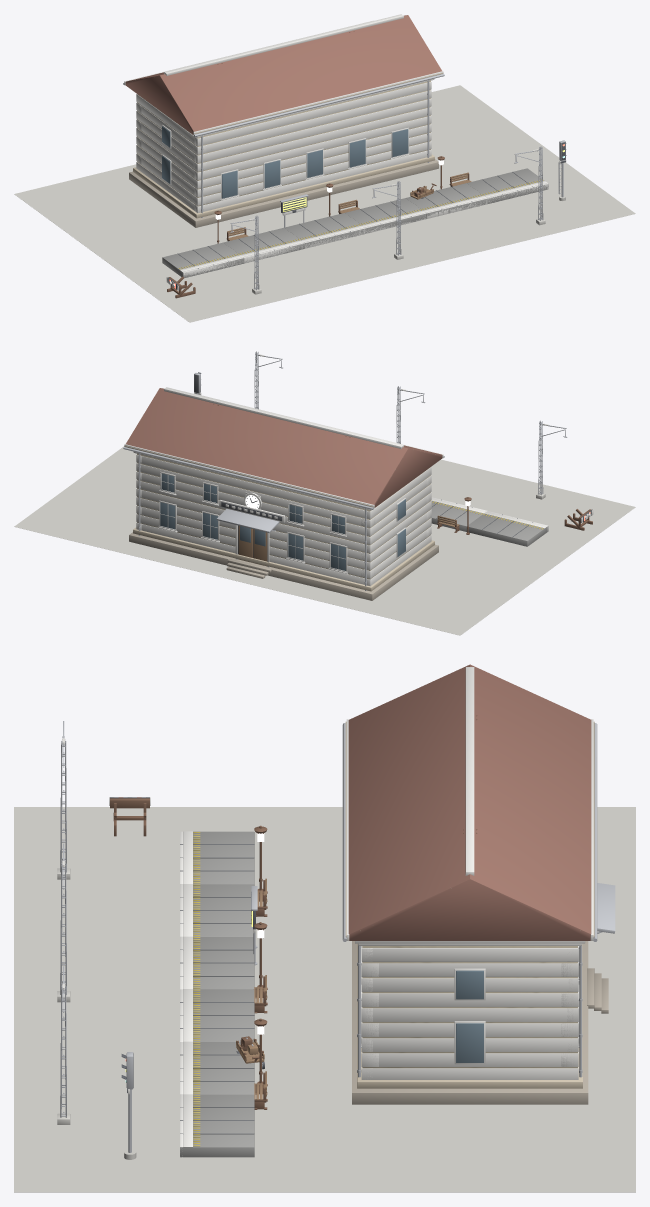
File: th41_bahnsteig.glb
3 views of the same model, one above another, from view 1: azimuth 30°, elevation 25°; view 2: azimuth 150°, elevation 25°; view 3: azimuth 270°, elevation 25° (orthographic). The views are drawn at different scales.
Parts seen in each view (by area): view 1: Cube, Satteldach, Cube.003, Cube.001, Cube.021, Cube.017, Cube.015, Cube.019, Cube.013, Cube.002, Cube.005, Cube.219 (+20 smaller); view 2: Cube, Satteldach, Cube.001, Cube.003, Cube.039, Cube.002, Cube.037, Cube.219, Cube.023, Cube.031, Cube.035, Cube.214 (+18 smaller); view 3: Cube, Satteldach, Cube.001, Cube.369, Cube.003, Cube.219, Cube.279, Cube.309, Cube.249, Cube.038, Cube.030, Cube.339 (+14 smaller).
Part boxes in pixels (x1,y1,x2,y2): Cube: (14, 85, 635, 322); Satteldach: (125, 15, 441, 134); Cube.003: (137, 80, 430, 206); Cube.001: (129, 159, 438, 227); Cube.021: (194, 82, 431, 146); Cube.017: (194, 99, 431, 162); Cube.015: (193, 107, 431, 170); Cube.019: (193, 90, 431, 153); Cube.013: (194, 116, 431, 180); Cube.002: (133, 154, 434, 218); Cube.005: (194, 150, 431, 212); Cube.219: (162, 242, 244, 277); Cube: (14, 446, 635, 635); Satteldach: (126, 388, 442, 507); Cube.001: (129, 532, 438, 600); Cube.003: (137, 453, 430, 579); Cube.039: (136, 455, 371, 518); Cube.002: (133, 527, 434, 591); Cube.037: (136, 463, 375, 527); Cube.219: (466, 513, 548, 546); Cube.023: (136, 523, 371, 584); Cube.031: (136, 489, 372, 551); Cube.035: (136, 472, 371, 535); Cube.214: (164, 387, 403, 448); Cube: (14, 807, 635, 1192); Satteldach: (348, 664, 591, 940); Cube.001: (352, 941, 588, 1104); Cube.369: (180, 1094, 254, 1157); Cube.003: (362, 946, 577, 1068); Cube.219: (193, 831, 254, 884); Cube.279: (193, 937, 254, 989); Cube.309: (193, 989, 254, 1041); Cube.249: (193, 884, 254, 936); Cube.038: (361, 946, 578, 961); Cube.030: (362, 1007, 578, 1021); Cube.339: (193, 1042, 254, 1094).
Size of the model in its own units: 44 by 12.25 by 30.
Materials: 73 (1 with a texture image).
